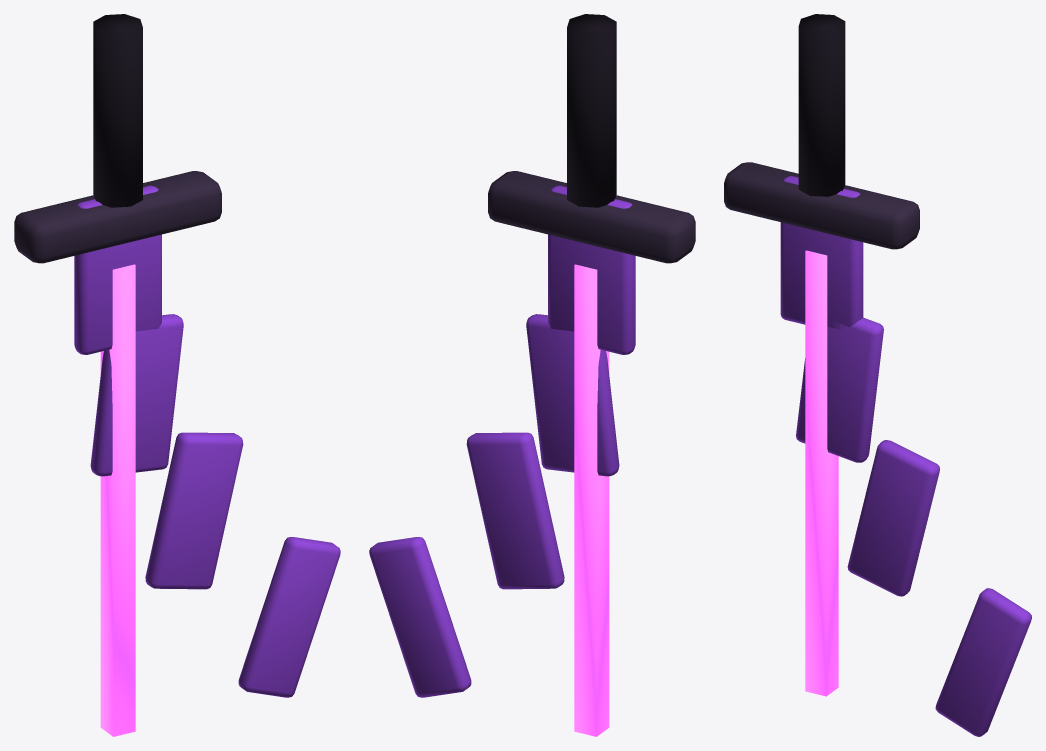
File: weapon_assassino_epica.glb
3 views of the same model, side by side, from view 1: azimuth 30°, elevation 25°; view 2: azimuth 150°, elevation 25°; view 3: azimuth 330°, elevation 25° (orthographic). The views are drawn at different scales.
Parts seen in each view (by area): view 1: weapon_assassino_epica; view 2: weapon_assassino_epica; view 3: weapon_assassino_epica.
Boxes of the visible parts, x1,y1,x2,y2 form: weapon_assassino_epica: (14, 14, 340, 736); weapon_assassino_epica: (369, 14, 695, 736); weapon_assassino_epica: (724, 14, 1031, 736).
Bounding box in the file's own units: 0.4959 × 1.07 × 0.07.
